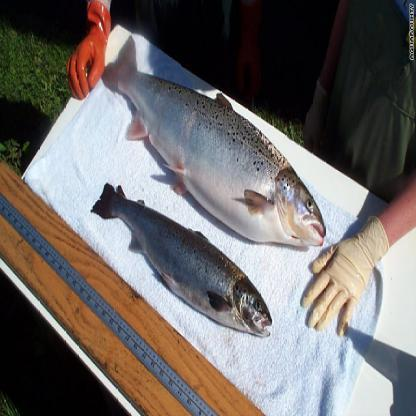fish: (104, 34, 327, 252), (87, 184, 272, 338)
